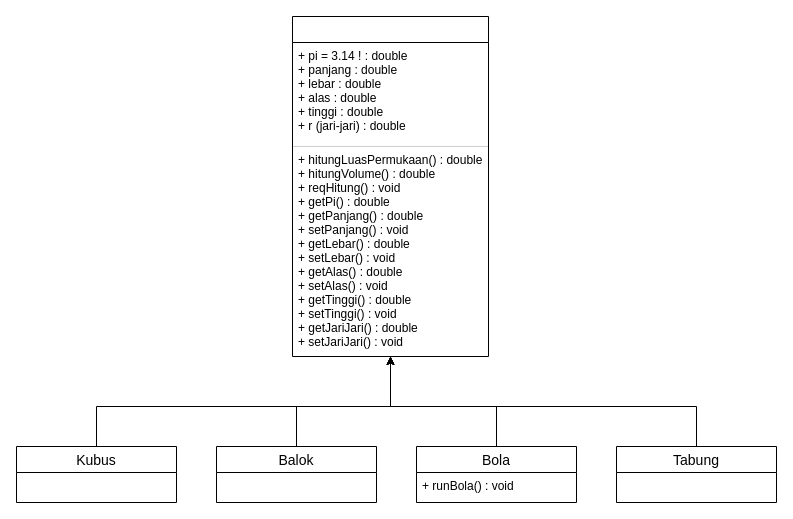
The diagram is 793 pixels wide and 519 high, and some of its shapes have lost their labels. The box of each missing label's shape, as (x1, y1, x2, y2) in pixels:
+ runBalok() : void: (216, 472, 376, 502)
+ runKubus() : void: (16, 472, 176, 502)
+ runTabung() : void: (616, 472, 776, 502)
Bangun Ruang: (292, 16, 488, 356)
